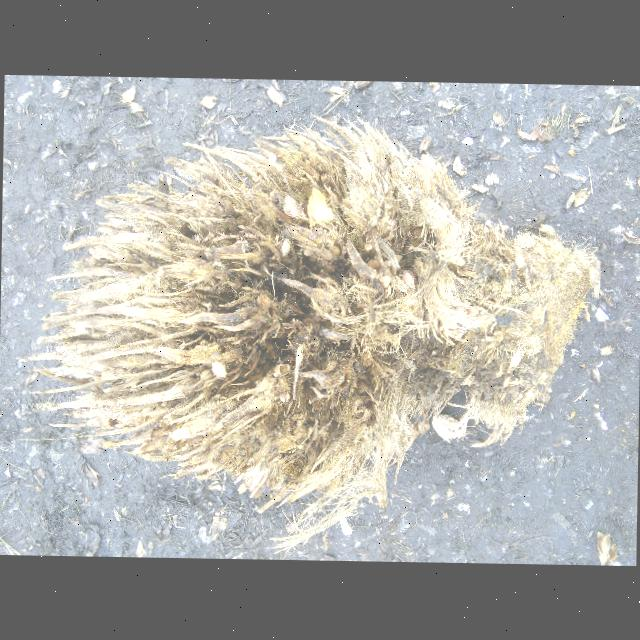Empty: (44, 115, 599, 533)
